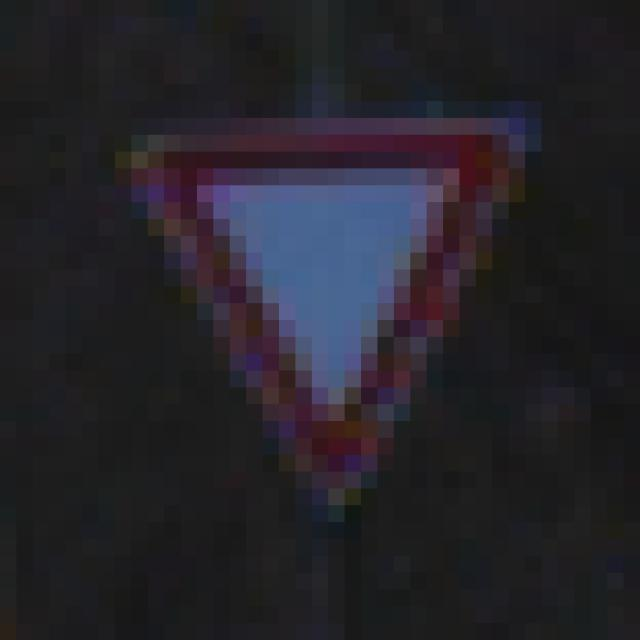Give Way: (99, 85, 559, 557)
